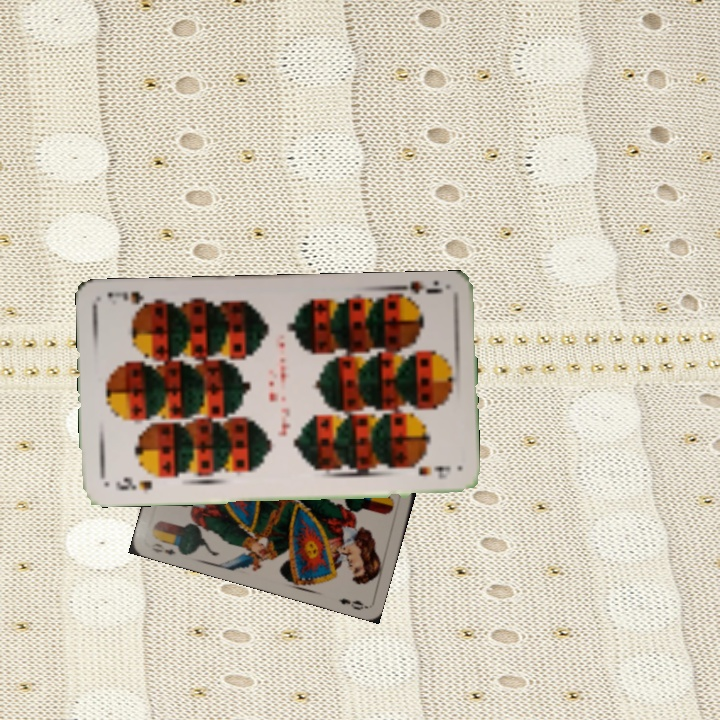EO: (147, 539, 178, 558)
S9: (390, 278, 445, 306), (112, 473, 155, 494)
